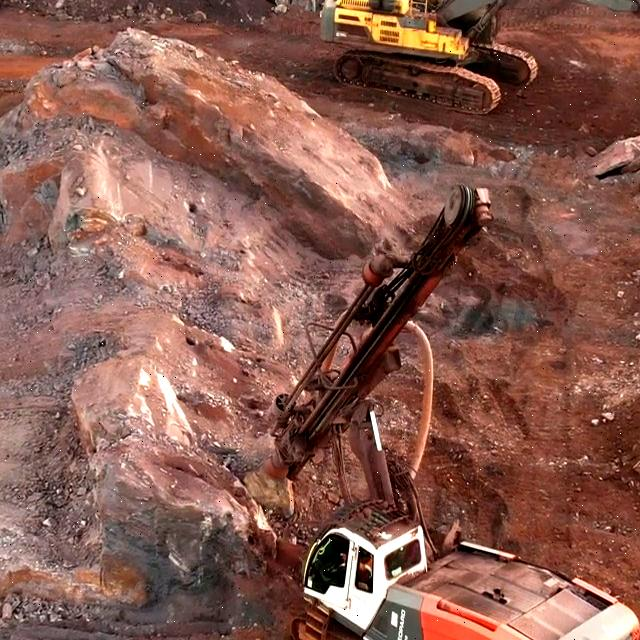Blast rig: (306, 508, 637, 640)
Excavator: (328, 0, 522, 100)
